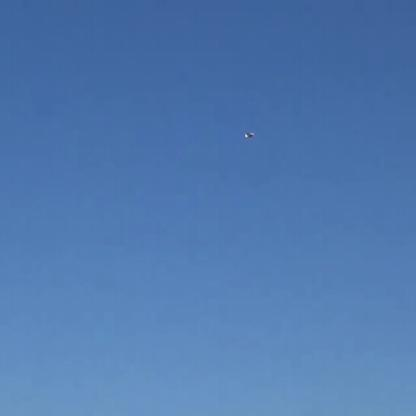CIV_Plane: (244, 132, 254, 140)
